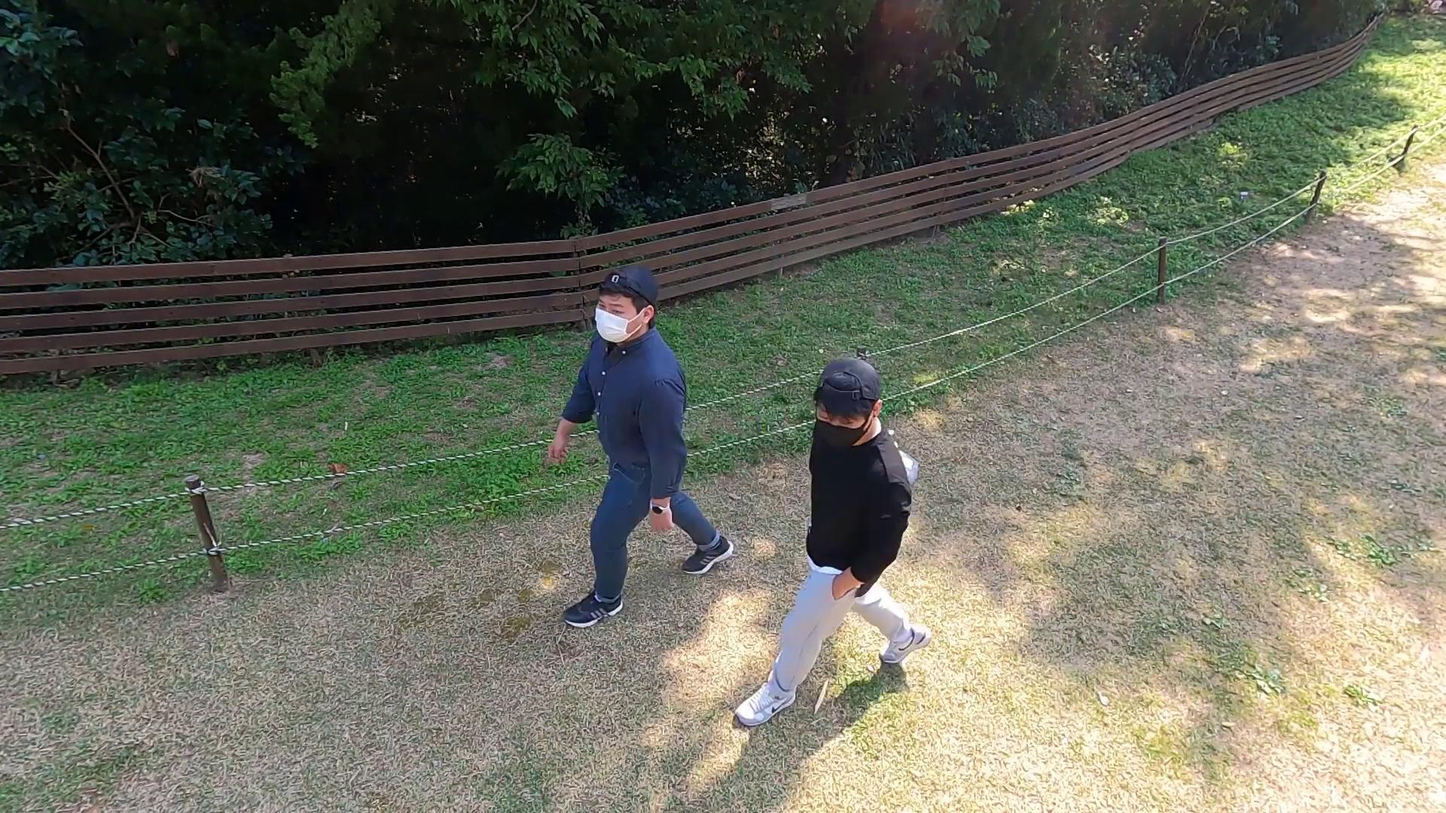person: (738, 355, 931, 730), (545, 266, 736, 636)
